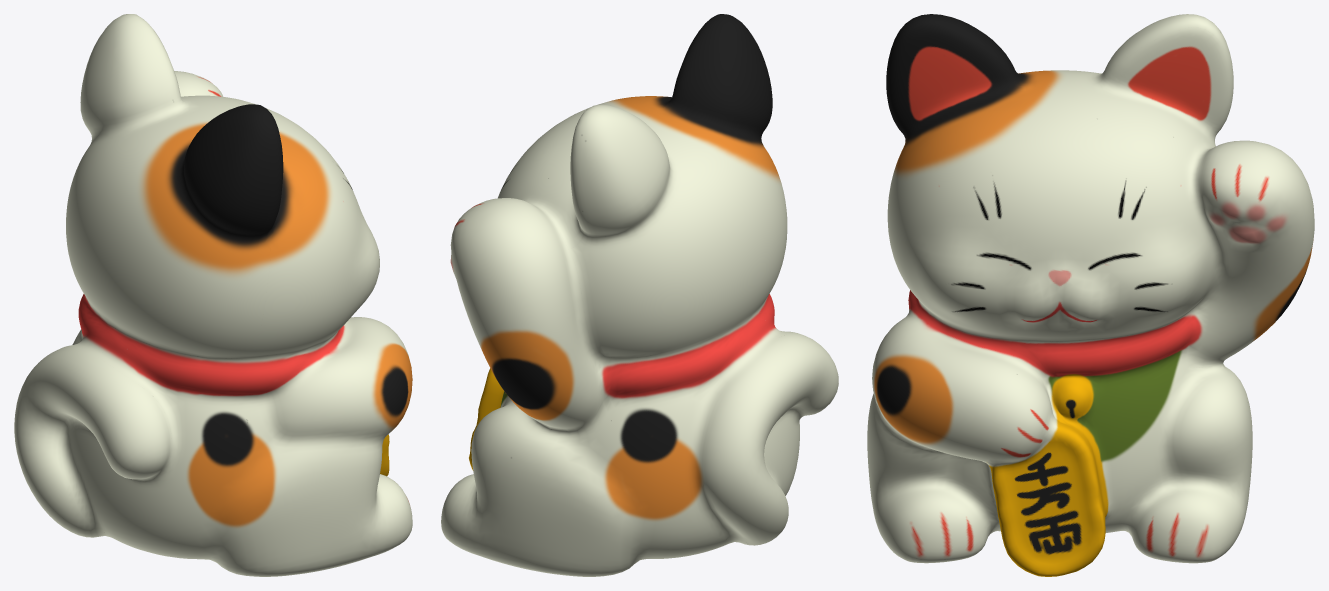
File: maneki_neko.glb
3 renders of one model, left to right at view 1: azimuth 30°, elevation 25°; view 2: azimuth 150°, elevation 25°; view 3: azimuth 270°, elevation 25°, orthographic. The views are drawn at different scales.
Visible parts, largest first — view 1: Retopo_Nekomata.001; view 2: Retopo_Nekomata.001; view 3: Retopo_Nekomata.001.
Part boxes in pixels (bbox=[...]): Retopo_Nekomata.001: bbox=[14, 14, 412, 576]; Retopo_Nekomata.001: bbox=[441, 14, 838, 576]; Retopo_Nekomata.001: bbox=[867, 14, 1314, 576].
Bounding box in the file's own units: 1.3 × 1.79 × 1.51.
Materials: 1 (1 with a texture image).
